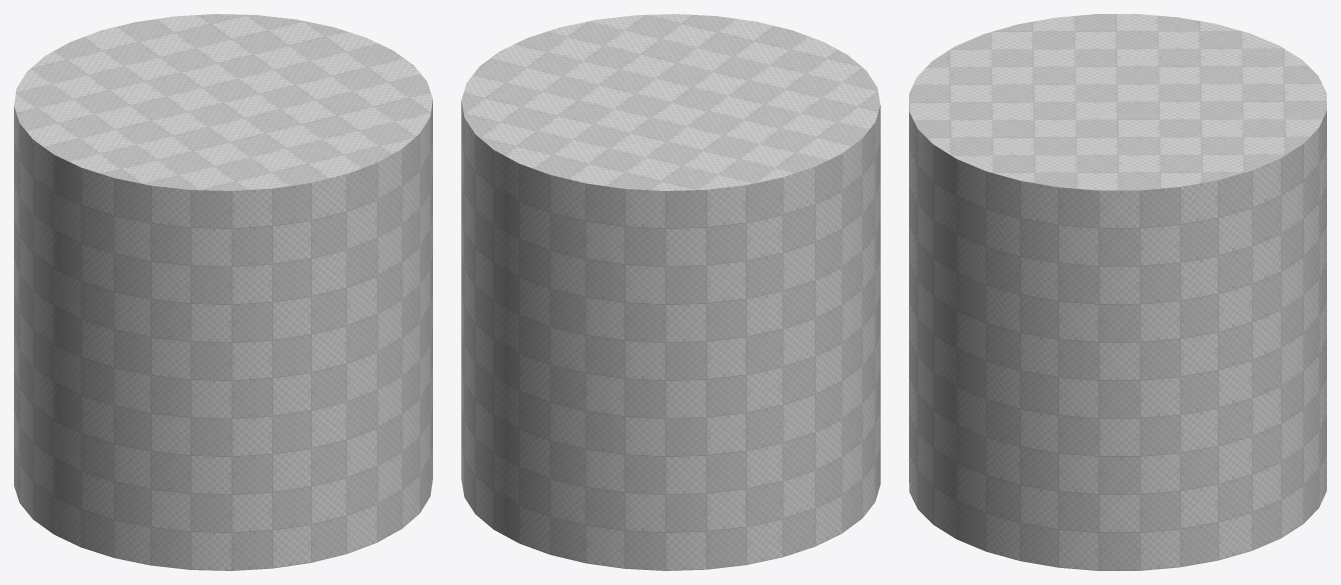
File: Big Cilinder.obj
The picture shows the model from 3 angles, left to right: view 1: azimuth 30°, elevation 25°; view 2: azimuth 150°, elevation 25°; view 3: azimuth 270°, elevation 25°; orthographic projection.
Visible parts, largest first — view 1: Cylinder.002; view 2: Cylinder.002; view 3: Cylinder.002.
Part boxes in pixels (bbox=[...]): Cylinder.002: bbox=[14, 14, 432, 570]; Cylinder.002: bbox=[461, 14, 880, 570]; Cylinder.002: bbox=[909, 14, 1326, 570].
Bounding box in the file's own units: 9.96 × 10 × 9.96.
